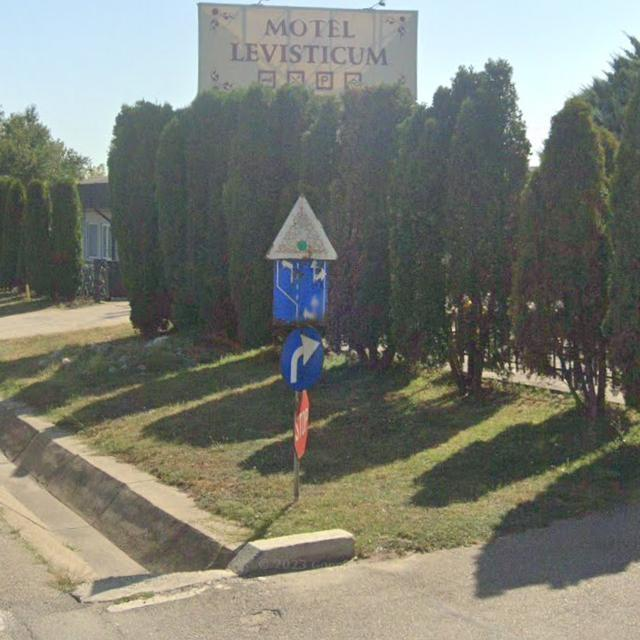prio_stop: (295, 390, 310, 458)
